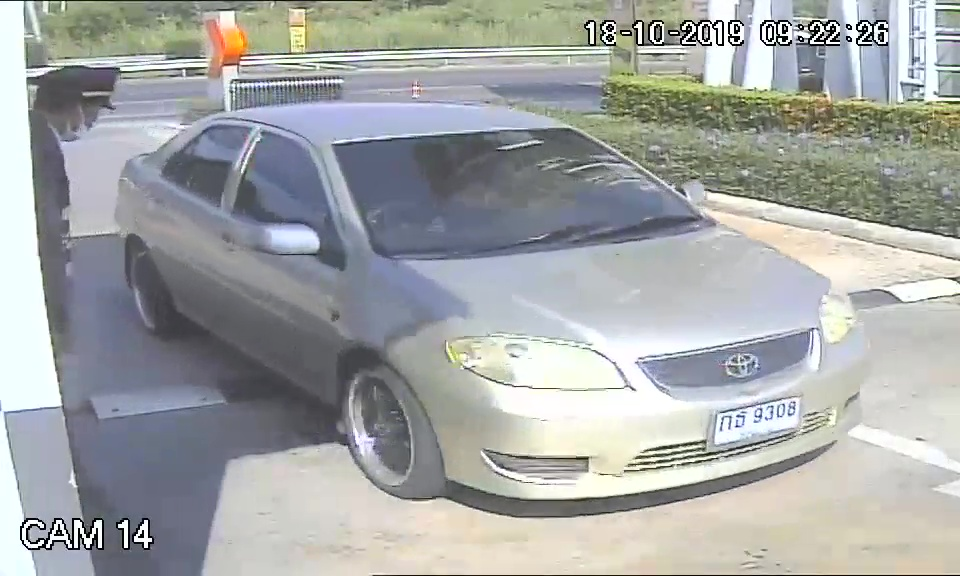sedan: (113, 95, 873, 501)
